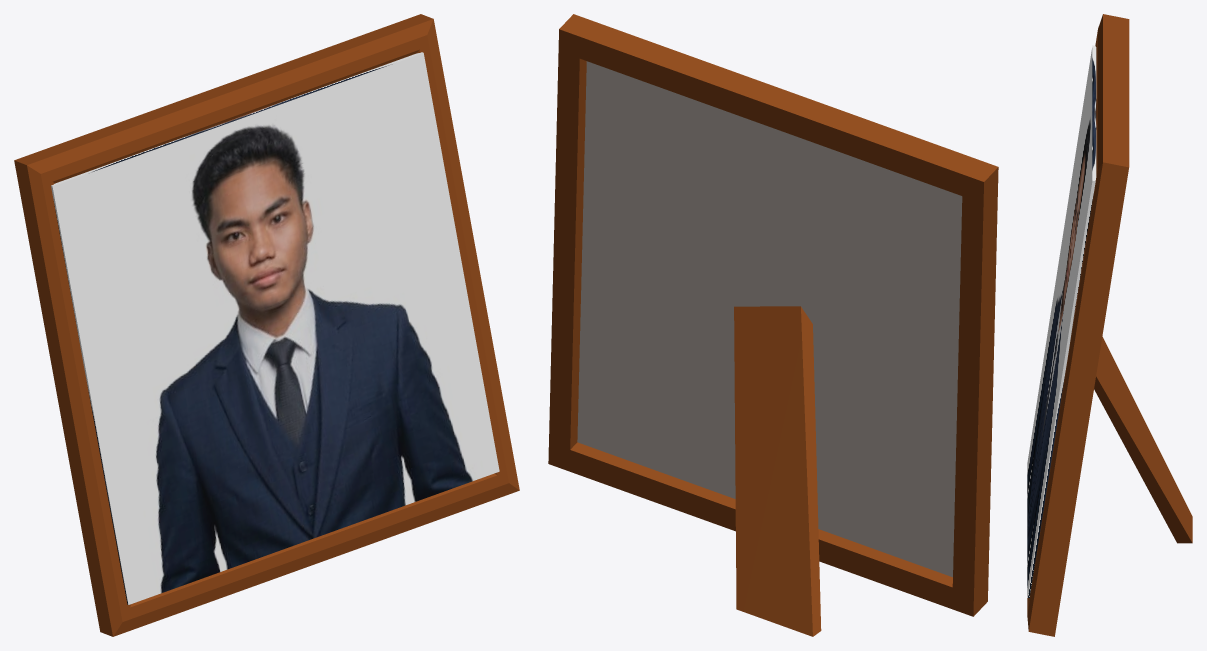
File: ryan1.gltf
3 views of the same model, side by side, from view 1: azimuth 30°, elevation 25°; view 2: azimuth 150°, elevation 25°; view 3: azimuth 270°, elevation 25° (orthographic). The views are drawn at different scales.
Visible parts, largest first — view 1: Cube, Model; view 2: Model; view 3: Model, Cube.
Part boxes in pixels (x1,y1,x2,y2): Cube: [51, 52, 499, 604]; Model: [14, 14, 519, 636]; Model: [548, 14, 998, 636]; Model: [1027, 14, 1192, 636]; Cube: [1027, 45, 1096, 597].
Bounding box in the file's own units: 1.95 × 2.07 × 0.6242.
3 materials, 1 textured.
